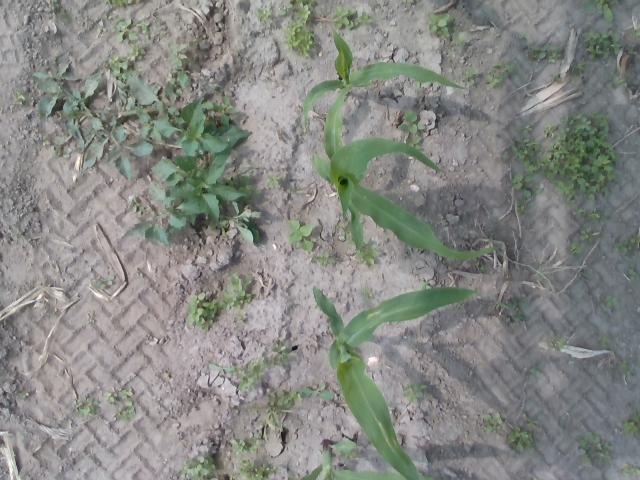Maize: (311, 283, 524, 480), (312, 80, 502, 260), (298, 26, 464, 130), (281, 438, 438, 480)
Weeds: (123, 92, 265, 246), (30, 55, 154, 183), (540, 112, 618, 204), (158, 36, 196, 100), (255, 390, 298, 444), (184, 292, 220, 331), (218, 274, 256, 310), (508, 138, 544, 176), (582, 29, 622, 61), (234, 356, 270, 391), (578, 432, 614, 464), (105, 386, 136, 421), (285, 21, 316, 56), (229, 458, 278, 480), (178, 455, 220, 480), (286, 218, 314, 251), (581, 0, 619, 22), (112, 13, 140, 42), (506, 425, 536, 452), (349, 238, 378, 265), (281, 0, 315, 21), (528, 42, 562, 63), (501, 296, 528, 322), (425, 11, 451, 38), (487, 62, 515, 87), (508, 172, 534, 198), (71, 395, 101, 417), (229, 432, 262, 452), (396, 110, 426, 132), (298, 384, 334, 402), (332, 6, 358, 30), (612, 233, 640, 255), (50, 0, 74, 25), (270, 341, 292, 367), (402, 382, 428, 404), (482, 412, 504, 434), (621, 411, 640, 435), (126, 42, 147, 60), (208, 362, 235, 376), (520, 410, 538, 428), (256, 6, 274, 24), (451, 31, 467, 51), (96, 273, 114, 290), (403, 135, 422, 151), (314, 252, 334, 266), (265, 172, 282, 188), (578, 228, 595, 244), (96, 14, 110, 33), (620, 463, 640, 476), (462, 68, 478, 84), (571, 58, 586, 75), (548, 336, 566, 350), (101, 0, 141, 6), (340, 450, 360, 462), (587, 209, 602, 224), (12, 90, 26, 106), (358, 10, 372, 26), (604, 294, 620, 308), (233, 310, 248, 324), (568, 242, 584, 255), (360, 288, 377, 300), (136, 20, 150, 34), (628, 267, 640, 282), (516, 198, 526, 215), (620, 360, 633, 373), (612, 76, 628, 86), (632, 21, 640, 40), (600, 334, 610, 348), (474, 262, 488, 271), (420, 280, 430, 290), (500, 152, 510, 162), (522, 124, 532, 134), (575, 207, 586, 216), (536, 267, 544, 278), (18, 391, 30, 398), (342, 232, 350, 242), (534, 184, 542, 194), (518, 30, 528, 38), (336, 221, 345, 229), (554, 73, 562, 82), (292, 189, 304, 194), (405, 0, 414, 2)
